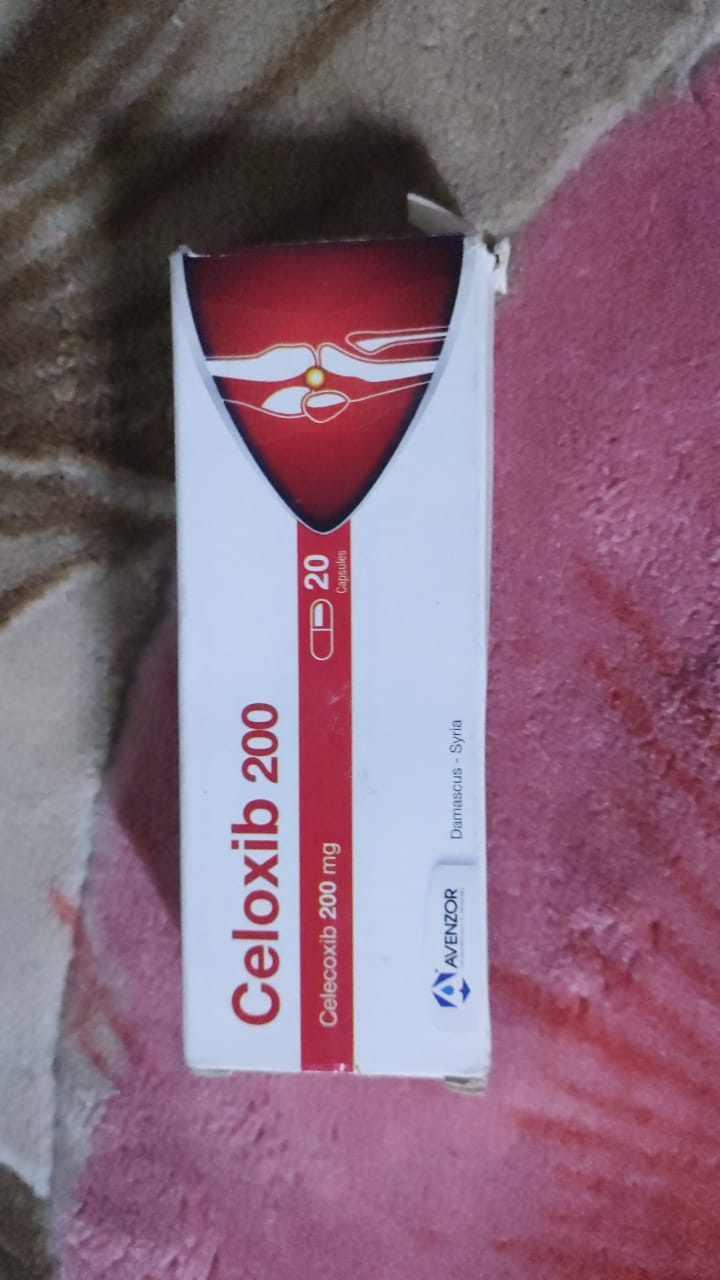Medicine: (143, 203, 527, 1120)
